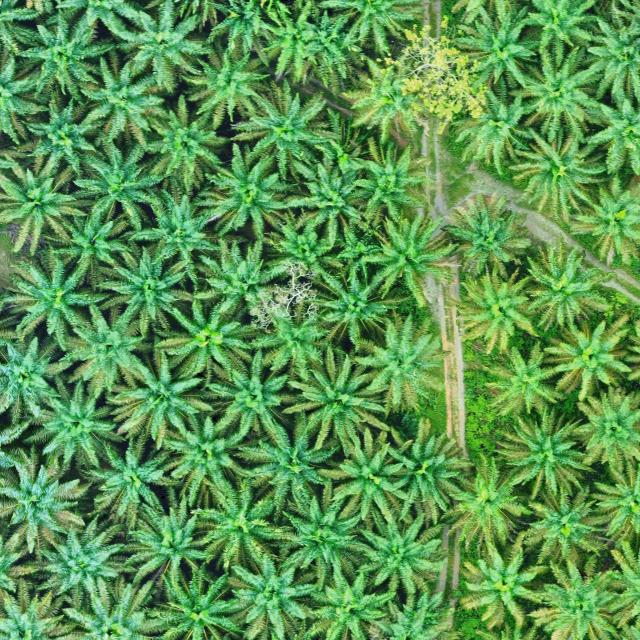Tree: (377, 15, 489, 129), (0, 252, 112, 358), (11, 8, 117, 118), (350, 307, 456, 416), (259, 485, 366, 592), (283, 347, 389, 455), (151, 291, 266, 390), (231, 412, 341, 514), (232, 82, 337, 185), (437, 442, 535, 552), (506, 117, 609, 220), (0, 443, 90, 559), (196, 347, 300, 447), (32, 509, 136, 609), (112, 1, 216, 101), (90, 241, 192, 341), (23, 366, 118, 472), (135, 553, 250, 640), (132, 96, 232, 196), (74, 435, 175, 533), (108, 350, 210, 447), (195, 146, 292, 245), (190, 474, 289, 571), (495, 404, 591, 504), (361, 209, 458, 307), (517, 235, 614, 333), (525, 549, 629, 640), (459, 540, 552, 640), (0, 154, 86, 260), (286, 144, 371, 250), (188, 232, 297, 314), (352, 506, 447, 599), (80, 52, 168, 152), (514, 489, 606, 584), (382, 426, 473, 522), (223, 551, 321, 640), (450, 81, 537, 181), (308, 262, 408, 348), (71, 140, 169, 227), (544, 313, 640, 401), (450, 2, 541, 94), (337, 54, 433, 140), (321, 428, 404, 527), (179, 43, 272, 131), (126, 181, 221, 267), (123, 497, 214, 586), (296, 561, 398, 640), (479, 334, 573, 419), (354, 133, 436, 229), (453, 264, 538, 356), (151, 405, 247, 485), (252, 287, 332, 381), (510, 45, 599, 129), (18, 98, 108, 180), (0, 330, 76, 426), (567, 170, 640, 268), (574, 4, 640, 111), (563, 383, 640, 473), (312, 0, 425, 59), (444, 200, 526, 279), (260, 222, 345, 296), (44, 205, 137, 272), (252, 1, 322, 86), (579, 90, 640, 172), (590, 456, 640, 540)
